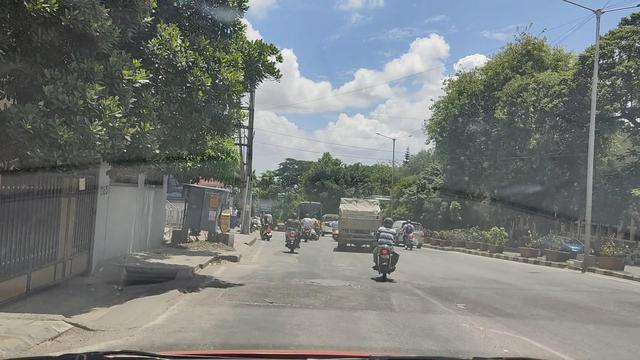HMV: (329, 191, 384, 249), (297, 196, 330, 240)
RoadDamages: (291, 265, 369, 297), (212, 291, 300, 315)
